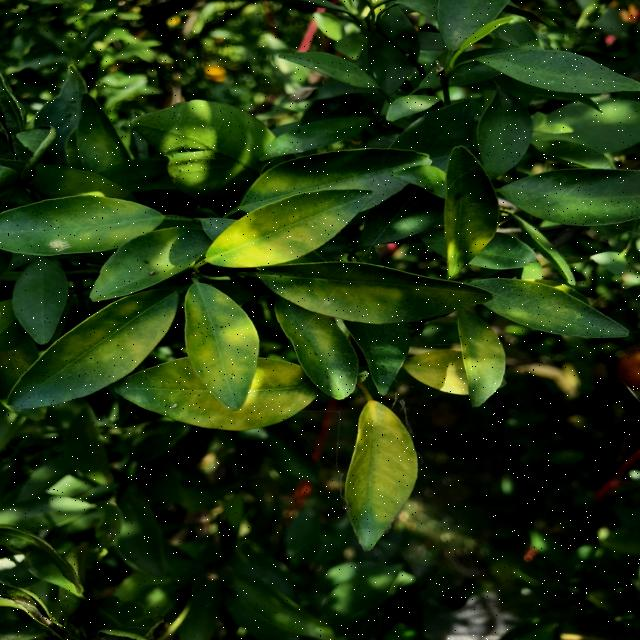blackspot: (6, 285, 168, 408), (124, 366, 316, 427), (280, 303, 365, 403), (184, 311, 254, 394)
